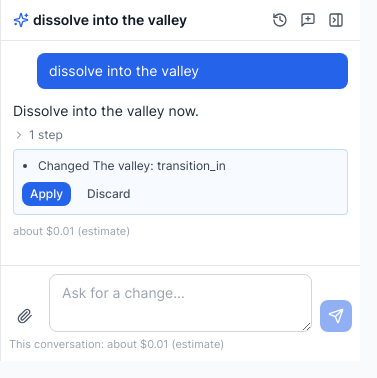
Test case: AssistantPanel › finds a finished proposal on the way back and applies it into the draft
Expected: the text "Dissolve into the valley now." is shown, [13,102,199,119]
Expected: the list item "Changed The valley: transition_in" is shown, [38,158,226,173]
Click the button "Apply": click(46, 194) [22,182,71,206]
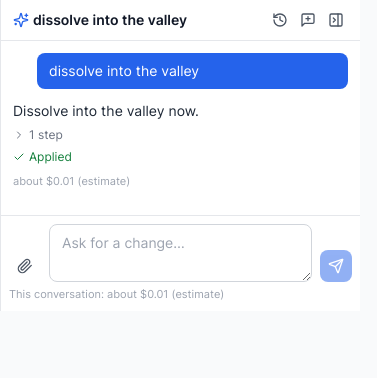
Now the text "Applied" is shown, box [13,149,72,164]
